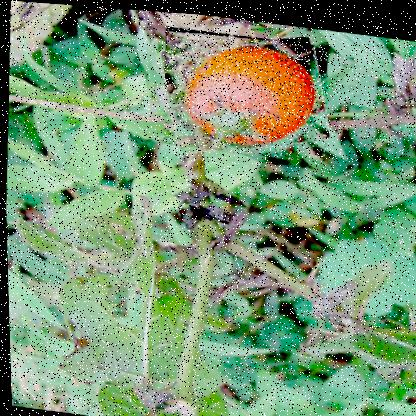tomato: (158, 22, 330, 159)
